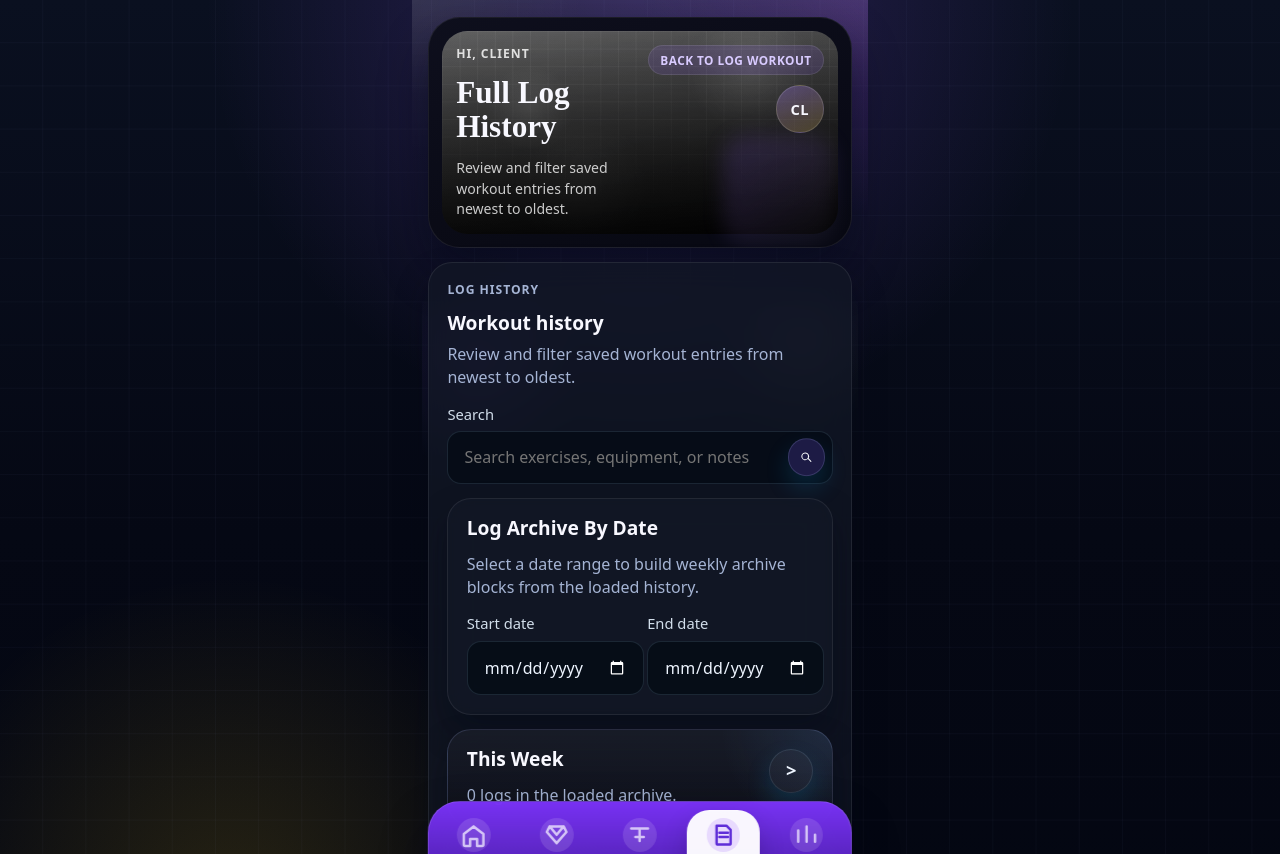
Test: Client history routes mobile experience › shows a no-results message in the add-log full-history search overlay when no rows match
The image size is (1280, 854).
Type "missing" into the search field labelled "Search" at (640, 457), box [447,431,833,484]
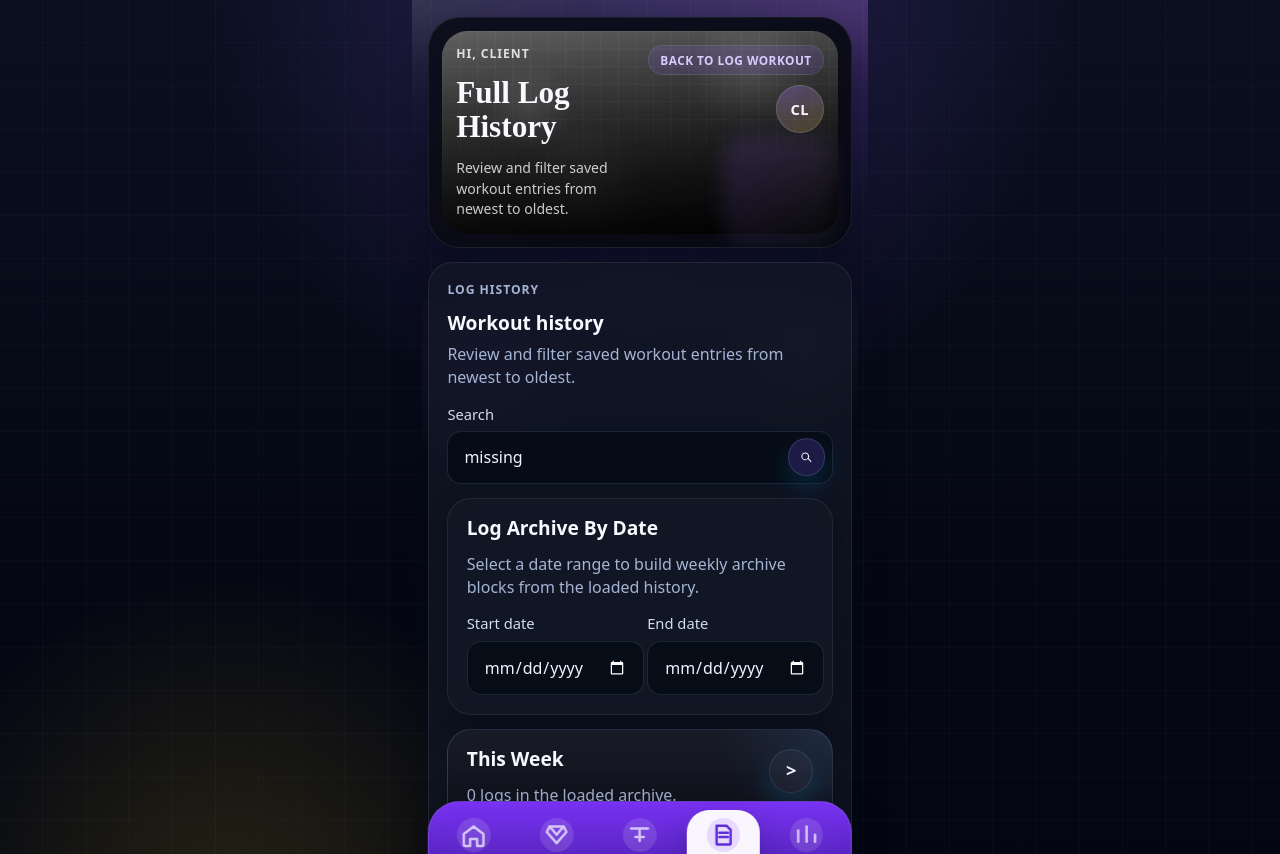
Click the button named "Search workout history" at (807, 457), box [788,439,825,476]
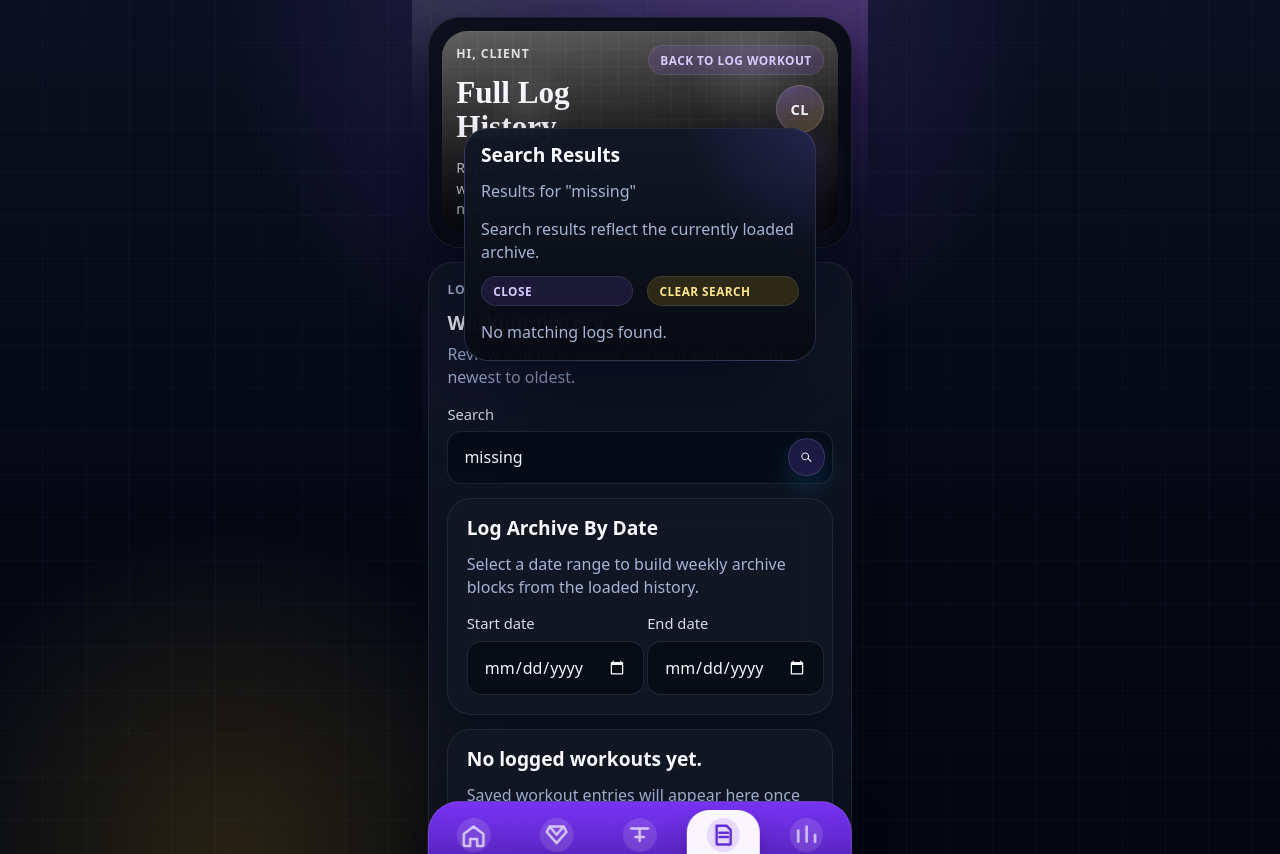
Check: the text "No matching logs found." is shown, box [481,321,667,343]
